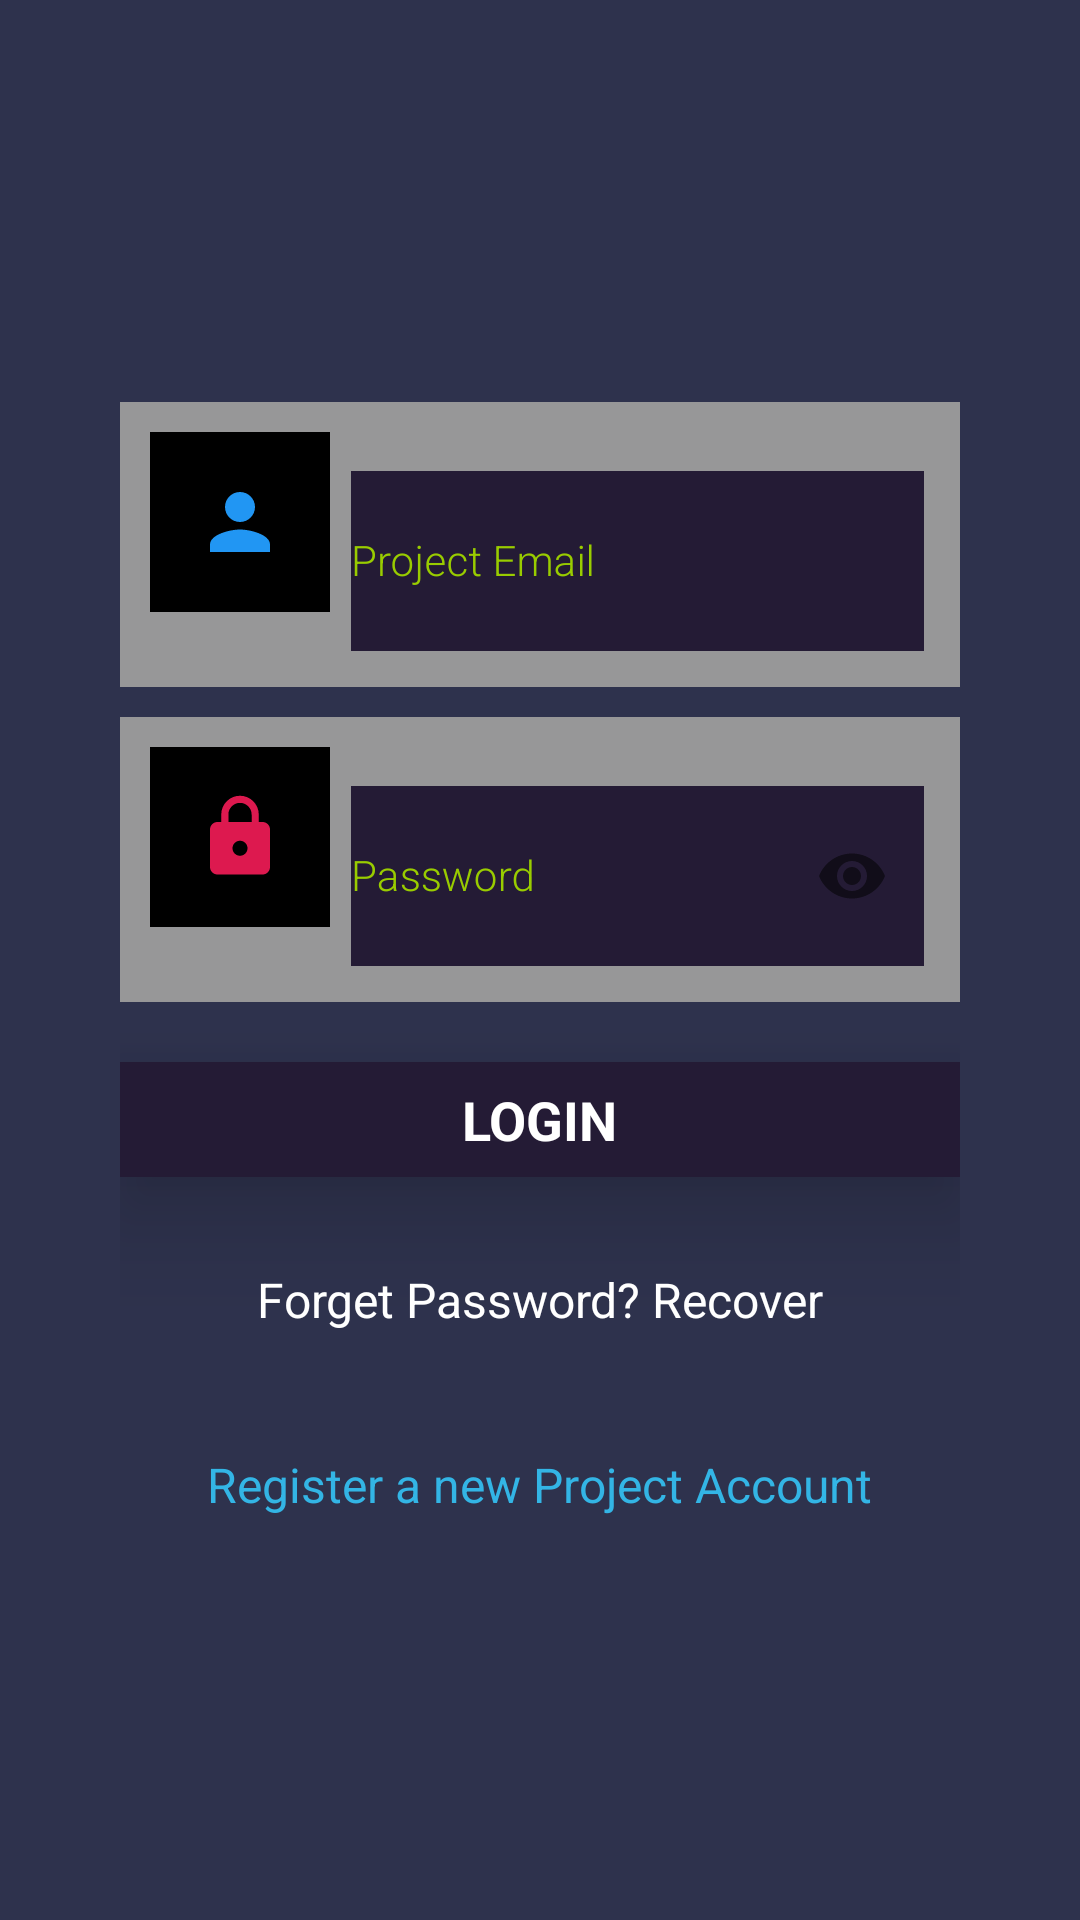

Where icons sit on this 1080×1920 app screen, as bbox=[x1, y1, x2, y2]:
lock: bbox=[150, 747, 330, 927]
person: bbox=[150, 432, 330, 612]
